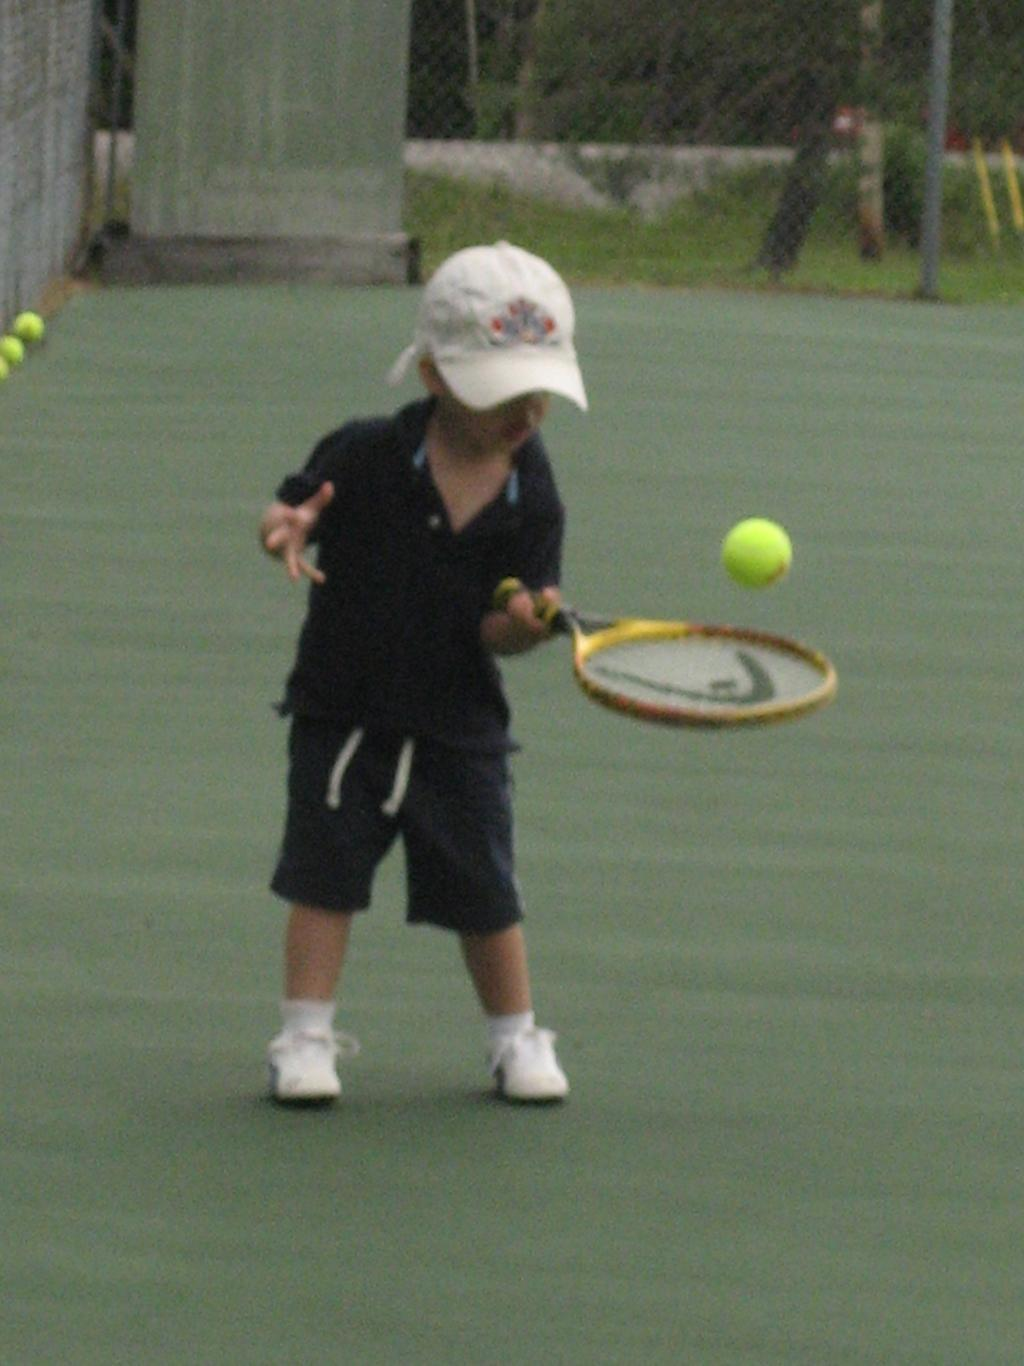face: (440, 323, 560, 456)
